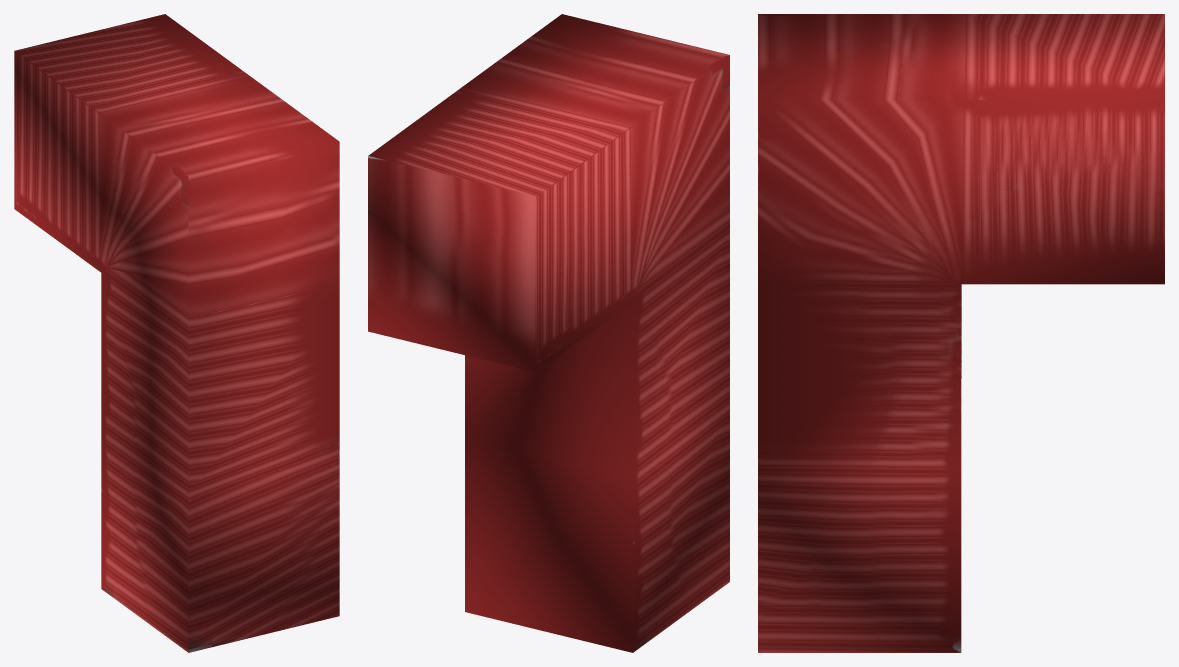
The model's file is Piece1(Texture) 1.fbx.
The picture shows the model from 3 angles, left to right: view 1: azimuth 30°, elevation 25°; view 2: azimuth 150°, elevation 25°; view 3: azimuth 270°, elevation 25°; orthographic projection. The views are drawn at different scales.
Visible parts, largest first — view 1: Cube; view 2: Cube; view 3: Cube.
Boxes of the visible parts, <box> form: Cube: <box>14,14,339,652</box>; Cube: <box>368,14,729,652</box>; Cube: <box>758,14,1164,652</box>.
Bounding box in the file's own units: 1 × 3 × 2.
Materials: 1 (1 with a texture image).
